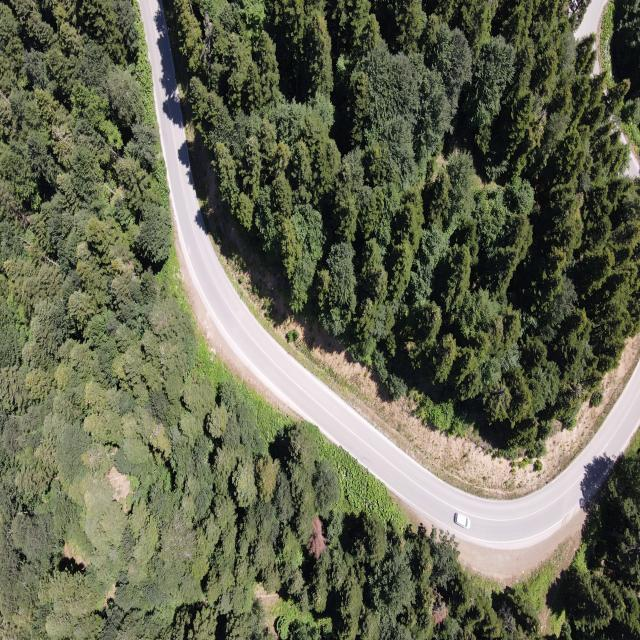vehicle: (454, 512, 470, 529)
